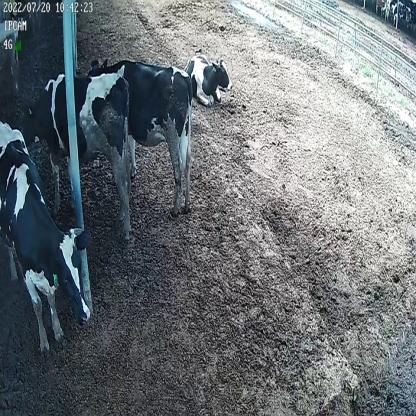cow: (0, 121, 93, 357), (21, 70, 132, 245), (88, 49, 194, 213), (184, 42, 233, 106)
